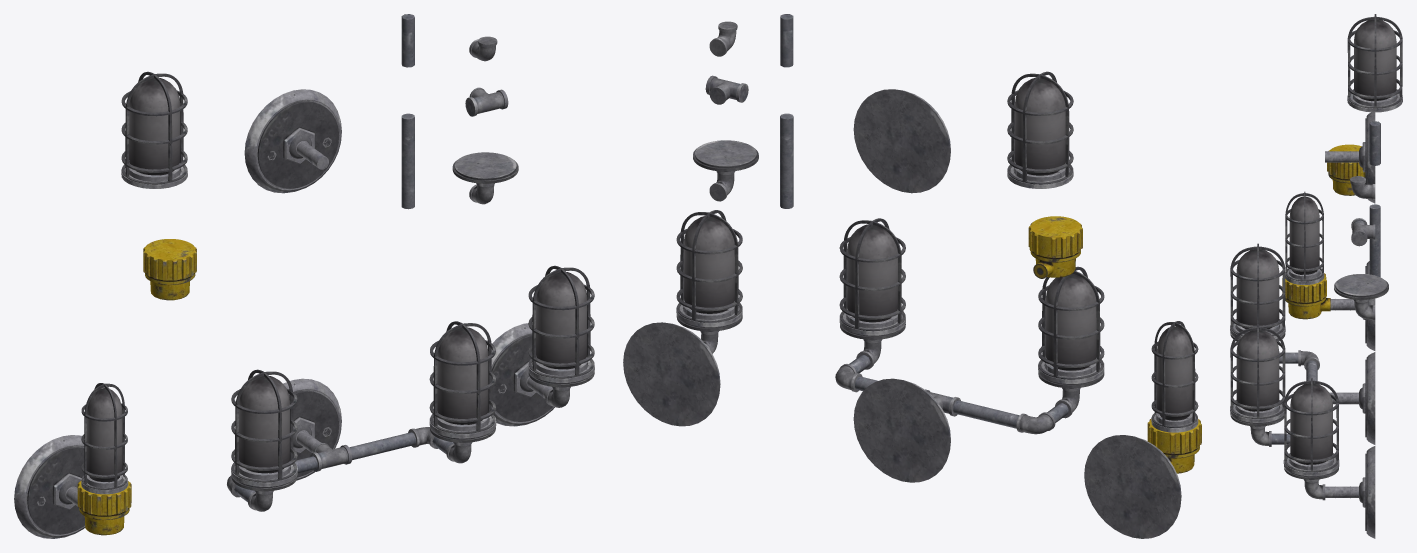
Rendered from industrial_caged_sconce.glb.
3 renders of one model, left to right at view 1: azimuth 30°, elevation 25°; view 2: azimuth 150°, elevation 25°; view 3: azimuth 270°, elevation 25°, orthographic. The views are drawn at different scales.
Visible parts, largest first — view 1: industrial_caged_sconce_c, industrial_caged_sconce_b, industrial_caged_sconce_a, industrial_caged_sconce_mount, industrial_caged_sconce_light, industrial_caged_sconce_base_a, industrial_caged_sconce_base_b, industrial_caged_sconce_pipe_long, industrial_caged_sconce_pipe_t, industrial_caged_sconce_pipe_short; view 2: industrial_caged_sconce_c, industrial_caged_sconce_a, industrial_caged_sconce_b, industrial_caged_sconce_mount, industrial_caged_sconce_light, industrial_caged_sconce_base_a, industrial_caged_sconce_base_b, industrial_caged_sconce_pipe_long, industrial_caged_sconce_pipe_t, industrial_caged_sconce_pipe_short; view 3: industrial_caged_sconce_c, industrial_caged_sconce_a, industrial_caged_sconce_b, industrial_caged_sconce_light, industrial_caged_sconce_base_b, industrial_caged_sconce_mount, industrial_caged_sconce_base_a, industrial_caged_sconce_pipe_long, industrial_caged_sconce_pipe_t, industrial_caged_sconce_pipe_short, industrial_caged_sconce_elbow.
Boxes of the visible parts, bbox=[...] form: industrial_caged_sconce_c: bbox=[227, 321, 496, 511]; industrial_caged_sconce_b: bbox=[14, 383, 131, 538]; industrial_caged_sconce_a: bbox=[491, 265, 594, 426]; industrial_caged_sconce_mount: bbox=[244, 89, 341, 193]; industrial_caged_sconce_light: bbox=[121, 71, 187, 188]; industrial_caged_sconce_base_a: bbox=[143, 239, 196, 300]; industrial_caged_sconce_base_b: bbox=[452, 152, 518, 204]; industrial_caged_sconce_pipe_long: bbox=[401, 113, 414, 209]; industrial_caged_sconce_pipe_t: bbox=[465, 87, 508, 116]; industrial_caged_sconce_pipe_short: bbox=[401, 14, 414, 67]; industrial_caged_sconce_c: bbox=[835, 218, 1104, 482]; industrial_caged_sconce_a: bbox=[623, 210, 742, 426]; industrial_caged_sconce_b: bbox=[1084, 321, 1201, 538]; industrial_caged_sconce_mount: bbox=[853, 89, 950, 193]; industrial_caged_sconce_light: bbox=[1007, 71, 1073, 188]; industrial_caged_sconce_base_a: bbox=[1028, 216, 1082, 278]; industrial_caged_sconce_base_b: bbox=[693, 140, 758, 201]; industrial_caged_sconce_pipe_long: bbox=[780, 113, 793, 208]; industrial_caged_sconce_pipe_t: bbox=[705, 75, 748, 104]; industrial_caged_sconce_pipe_short: bbox=[780, 14, 793, 67]; industrial_caged_sconce_c: bbox=[1230, 243, 1375, 446]; industrial_caged_sconce_a: bbox=[1283, 378, 1375, 538]; industrial_caged_sconce_b: bbox=[1282, 191, 1375, 350]; industrial_caged_sconce_light: bbox=[1347, 14, 1402, 112]; industrial_caged_sconce_base_b: bbox=[1334, 274, 1388, 320]; industrial_caged_sconce_mount: bbox=[1325, 110, 1375, 203]; industrial_caged_sconce_base_a: bbox=[1327, 144, 1365, 195]; industrial_caged_sconce_pipe_long: bbox=[1369, 204, 1380, 277]; industrial_caged_sconce_pipe_t: bbox=[1351, 218, 1375, 246]; industrial_caged_sconce_pipe_short: bbox=[1369, 121, 1380, 165]; industrial_caged_sconce_elbow: bbox=[1350, 176, 1375, 199].
Size of the model in its own units: 1.21 by 0.9128 by 0.3894.
1 material, 1 textured.
